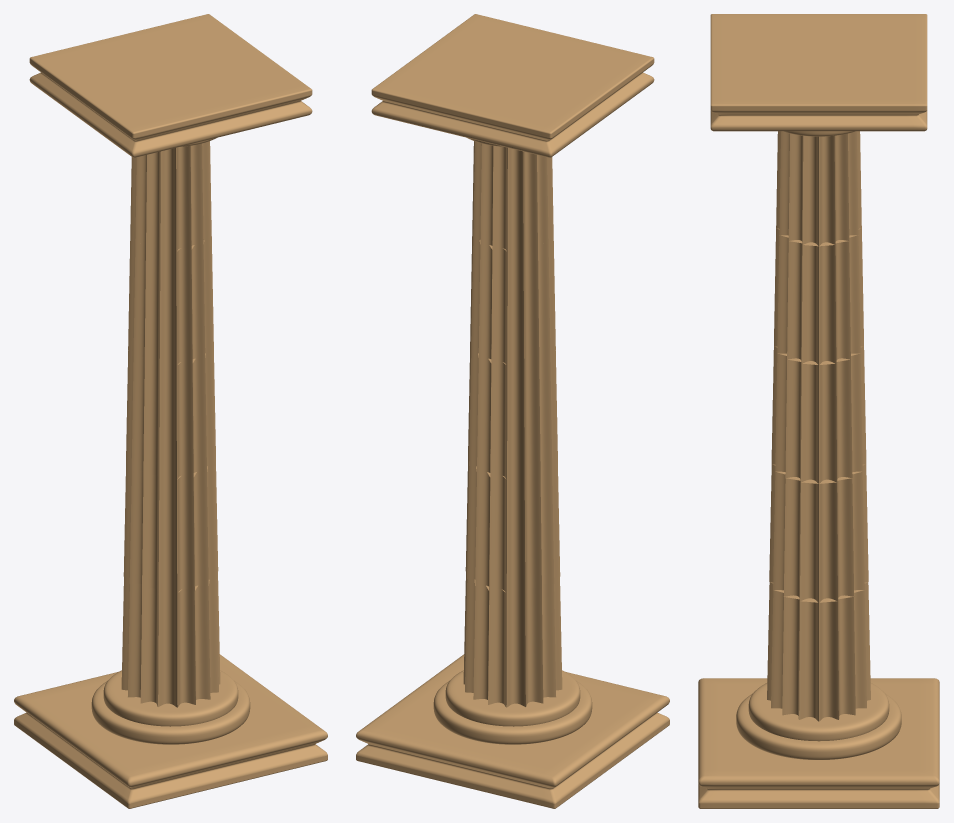
File: Ruprecht_c.obj
3 renders of one model, left to right at view 1: azimuth 30°, elevation 25°; view 2: azimuth 150°, elevation 25°; view 3: azimuth 270°, elevation 25°, orthographic. The views are drawn at different scales.
Parts seen in each view (by area): view 1: Cube; view 2: Cube; view 3: Cube.
Boxes of the visible parts, x1,y1,x2,y2 form: Cube: [14, 14, 327, 808]; Cube: [356, 14, 669, 808]; Cube: [698, 14, 939, 808].
Bounding box in the file's own units: 2.78 × 8.9 × 2.78.
